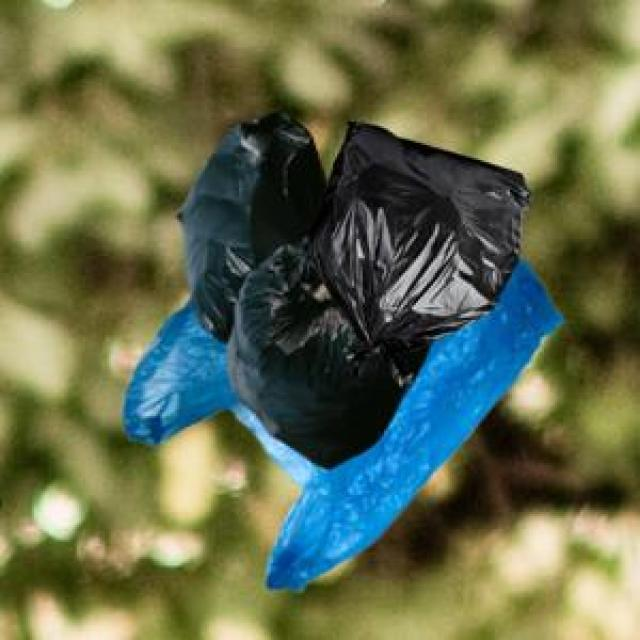miscellaneous trash: (173, 109, 426, 465), (305, 117, 527, 384)
